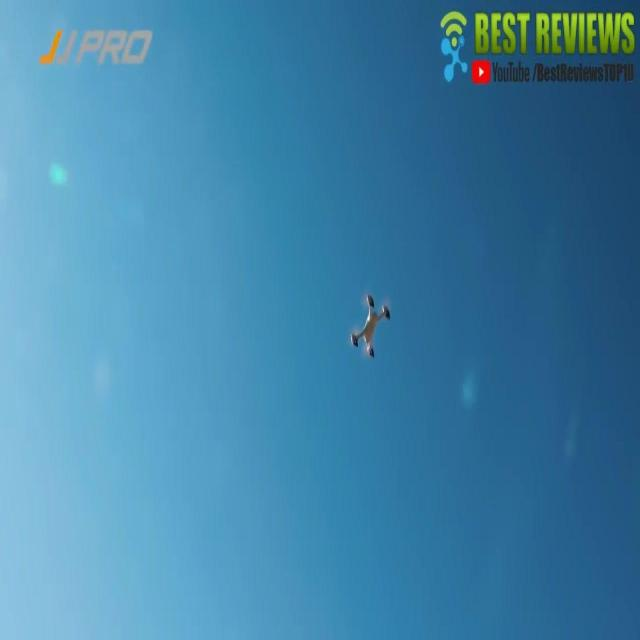UAV: (350, 294, 390, 358)
